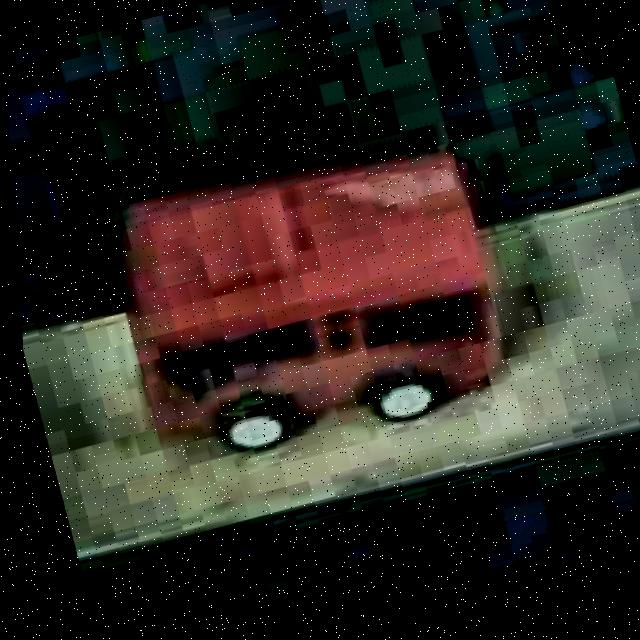bus: (91, 116, 528, 492)
